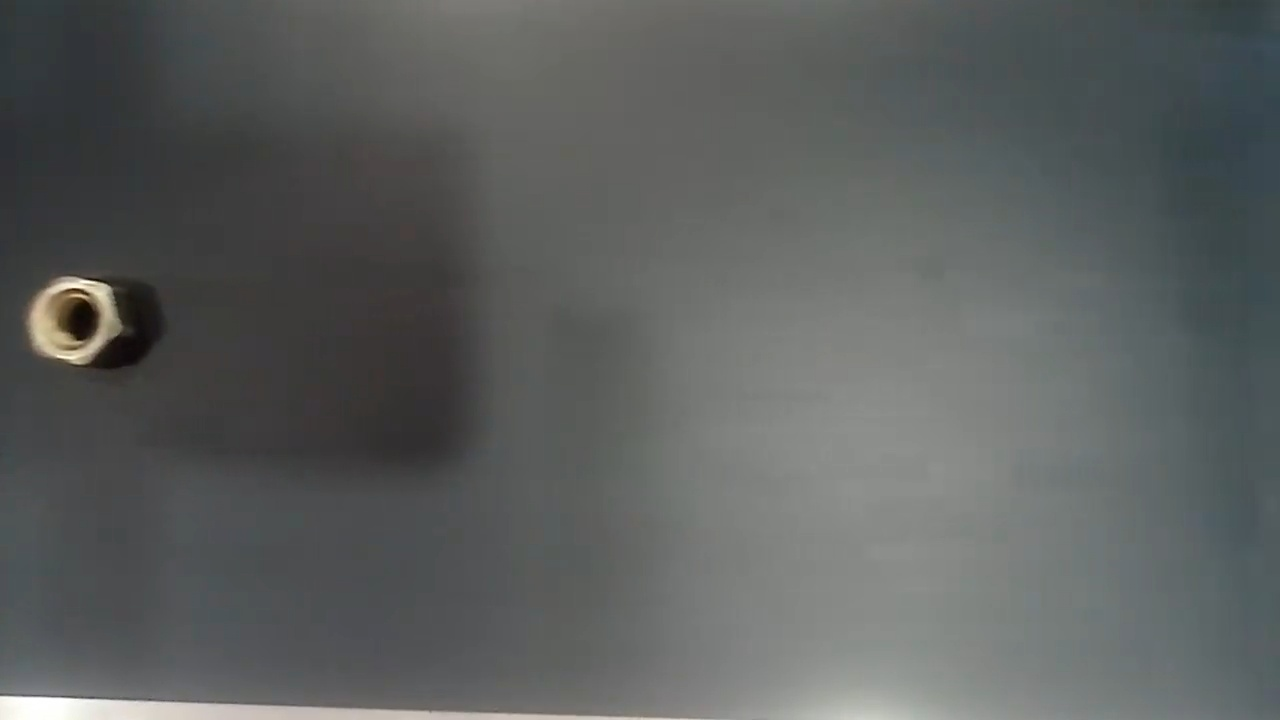Bolt: (22, 274, 142, 370)
